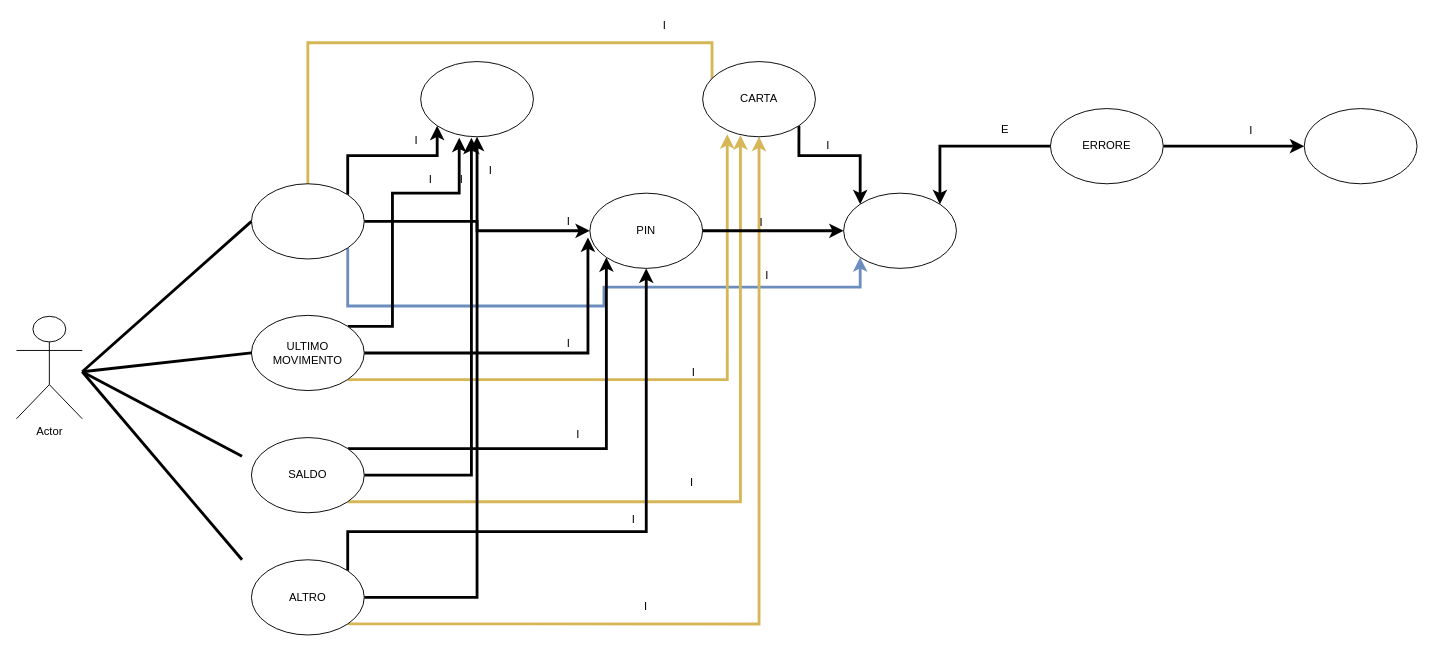
Image size: 1434x651. Some labels were removed from this diagram. The shapes that lost their labels are listed below. From the top down, each one's centre as x and y in pixels, then its label:
At pixel 476 99: "BENVENUTO".
At pixel 1360 146: "CONFISCA".
At pixel 307 221: "PRELIEVO".
At pixel 899 230: "VERIFICA".
